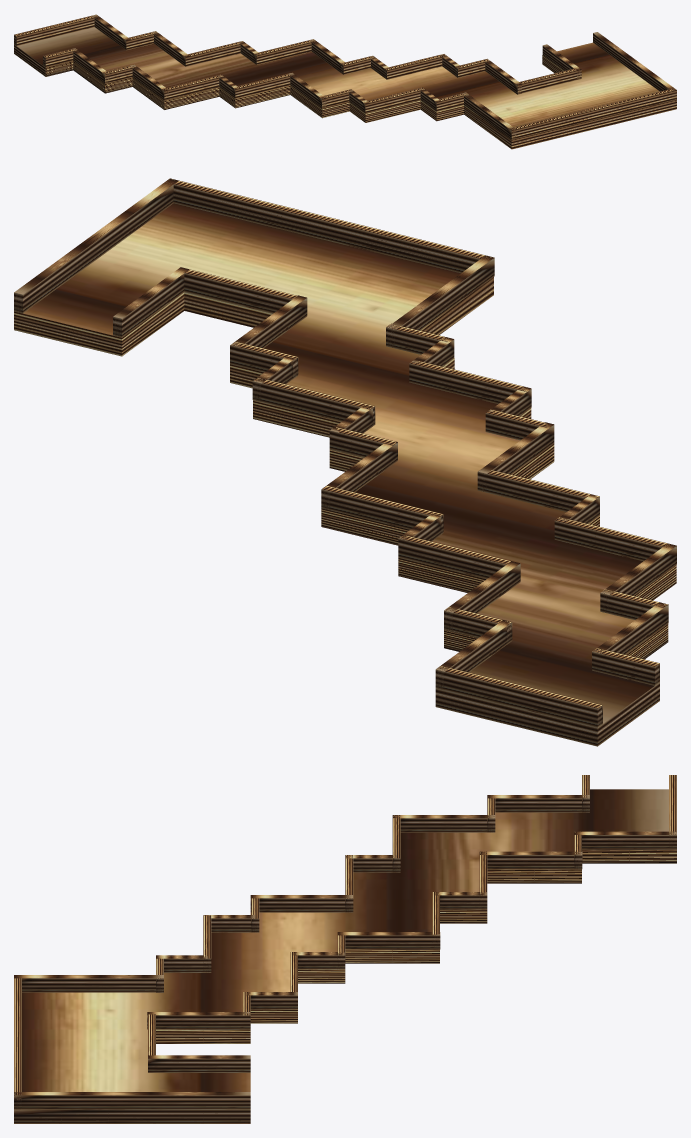
The model's file is F - Stairs 1.obj.
3 views of the same model, one above another, from view 1: azimuth 30°, elevation 25°; view 2: azimuth 150°, elevation 25°; view 3: azimuth 270°, elevation 25° (orthographic). The views are drawn at different scales.
Parts seen in each view (by area): view 1: polySurface137; view 2: polySurface137; view 3: polySurface137.
Boxes of the visible parts, x1,y1,x2,y2 form: polySurface137: (14, 14, 676, 149); polySurface137: (14, 178, 676, 746); polySurface137: (14, 775, 676, 1123).
Size of the model in its own units: 3360 by 140 by 2941.
